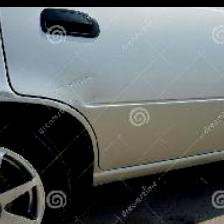door_scratch: (0, 62, 131, 117)
